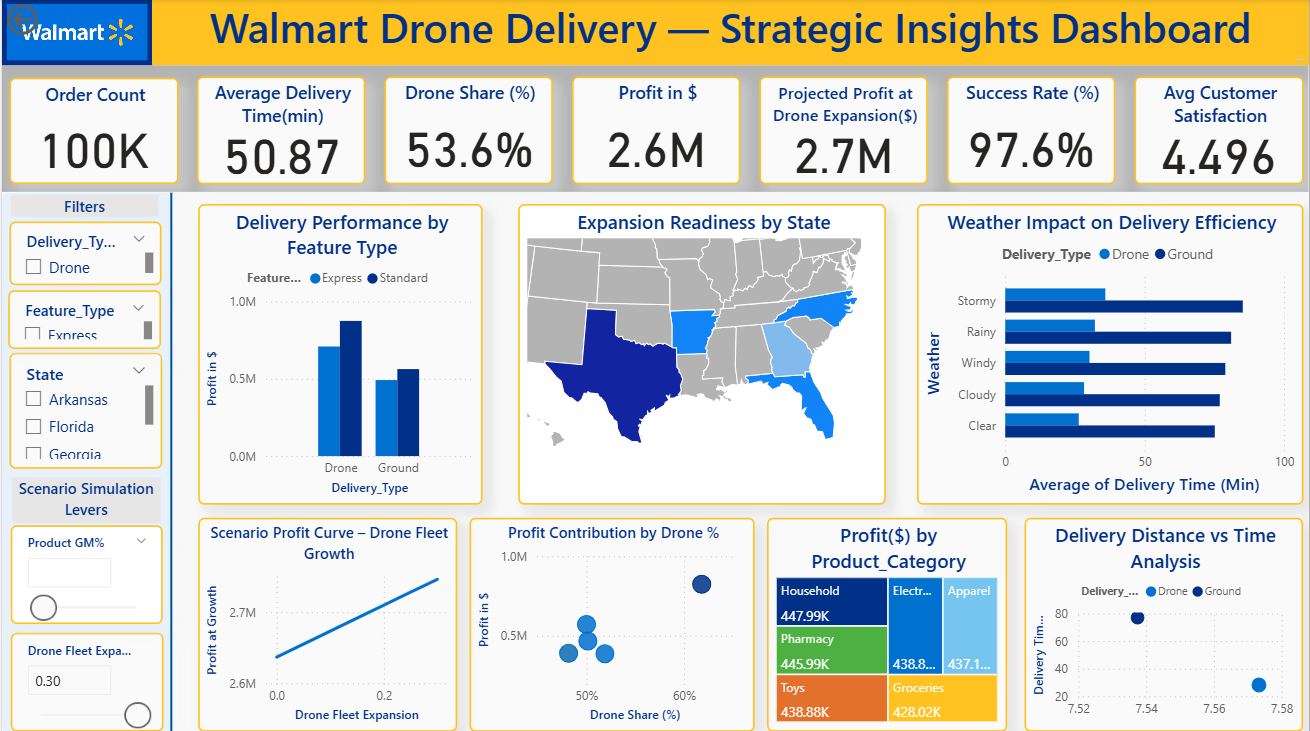

This screenshot's page, from the dashboard's own definition file:
{"tool":"powerbi","page":{"name":"Page 1","canvas":[1280,720],"ordinal":0},"visuals":[{"type":"shape","box":[0,189.5,165.2,529.5],"z":0},{"type":"textbox","box":[0,65.1,1279,124],"z":1000},{"type":"textbox","box":[0,0,147,65.1],"z":2000},{"type":"textbox","title":"Walmart Drone Delivery — Strategic Insights Dashboard","box":[147,0,1133.2,65.1],"z":3000},{"type":"card","title":"Profit in $","fields":{"Values":["Product GM%.Profit_USD (Corrected)"]},"box":[558.2,75.5,165,105.3],"z":4000},{"type":"card","title":"Average Delivery Time(min)","fields":{"Values":["Avg(walmart_database walmart_data.Delivery Time (Min))"]},"box":[191.1,75.5,165,105.3],"z":5000},{"type":"card","title":"Success Rate (%)","fields":{"Values":["walmart_database walmart_v4.Success Rate %"]},"box":[925.3,75.5,165,105.3],"z":6000},{"type":"card","title":"Avg Customer Satisfaction","fields":{"Values":["Avg(walmart_database walmart_data.Customer Satisfaction)"]},"box":[1108.9,75.9,165.2,105.3],"z":7000},{"type":"card","title":"Drone Share (%)","fields":{"Values":["walmart_database walmart_data.Drone Share (%)"]},"box":[374.7,75.5,165,105.3],"z":8000},{"type":"clusteredColumnChart","title":"Delivery Performance by Feature Type","fields":{"Category":["walmart_database walmart_data.Delivery_Type"],"Series":["walmart_database walmart_data.Feature_Type"],"Y":["Product GM%.Profit_USD (Corrected)"]},"box":[192.6,200.4,278.4,294],"z":9000},{"type":"clusteredBarChart","title":"Weather Impact on Delivery Efficiency","fields":{"Category":["walmart_database walmart_data.Weather"],"Y":["Avg(walmart_database walmart_data.Delivery Time (Min))"],"Series":["walmart_database walmart_data.Delivery_Type"]},"box":[896.4,200.4,378.6,294],"z":10000},{"type":"scatterChart","title":"Delivery Distance vs Time Analysis","fields":{"X":["Avg(walmart_database walmart_data.Distance_km)"],"Y":["Avg(walmart_database walmart_data.Delivery Time (Min))"],"Size":["Sum(walmart_database walmart_data.Profit_USD)"],"Series":["walmart_database walmart_data.Delivery_Type"]},"box":[1001.2,507.9,272.9,209.3],"z":11000},{"type":"shapeMap","title":"Expansion Readiness by State","fields":{"Category":["walmart_database walmart_data.State"],"Value":["walmart_database walmart_data.Expansion Readiness"]},"box":[505.5,200.4,360.4,294],"z":12000},{"type":"card","title":"Order Count","fields":{"Values":["walmart_database walmart_v4.Order Count"]},"box":[7.3,77.1,165.2,104],"z":13000},{"type":"treemap","title":"Profit($) by Product_Category","fields":{"Group":["walmart_database walmart_v4.Product_Category"],"Values":["Product GM%.Profit_USD (Corrected)"]},"box":[749.1,507.9,235,209.3],"z":14000},{"type":"slicer","fields":{"Values":["walmart_database walmart_v4.State"]},"box":[6.8,346.7,149.5,113.3],"z":15000},{"type":"slicer","fields":{"Values":["walmart_database walmart_v4.Delivery_Type"]},"box":[7,217.4,149,62.8],"z":16000},{"type":"slicer","fields":{"Values":["walmart_database walmart_v4.Feature_Type"]},"box":[6.5,284.8,149.6,57.2],"z":17000},{"type":"slicer","fields":{"Values":["Drone Fleet Expansion.Drone Fleet Expansion"]},"box":[8.6,620.5,149.3,96.7],"z":18000},{"type":"scatterChart","title":"Profit Contribution by Drone %","fields":{"X":["walmart_database walmart_v4.Drone Share (%)"],"Size":["walmart_database walmart_v4.Success Rate %"],"Category":["walmart_database walmart_v4.State"],"Y":["Product GM%.Profit_USD (Corrected)"]},"box":[457.8,507.9,279.1,209.3],"z":19000},{"type":"slicer","fields":{"Values":["Product GM%.Product GM%"]},"box":[8.6,515.3,149,97],"z":20000},{"type":"shape","box":[156.1,190,18.2,529.5],"z":21000},{"type":"textbox","title":"Scenario Simulation Levers","box":[9.3,468.6,145.3,44.2],"z":22000},{"type":"image","box":[0,0,147,65.1],"z":23000},{"type":"actionButton","box":[0,0,100,40],"z":24000},{"type":"textbox","title":"Filters","box":[9.1,192.6,144.4,20.8],"z":25000},{"type":"lineChart","title":"Scenario Profit Curve – Drone Fleet Growth","fields":{"Y":["Drone Fleet Expansion.Profit at Growth"],"Category":["Drone Fleet Expansion.Drone Fleet Expansion"]},"box":[192.2,507.9,253.4,209.3],"z":25001},{"type":"card","title":"Projected Profit at Drone Expansion($)","fields":{"Values":["Drone Fleet Expansion.Profit at Growth"]},"box":[741.8,75.5,165,105.3],"z":25002}]}

Visuals, with their boxes in screenshot pixels (x1, y1, x2, y2), scaled from the page's 1280x720 canvas onto the 1310x731 screenshot:
shape: bbox=(0, 192, 169, 730)
textbox: bbox=(0, 66, 1309, 192)
textbox: bbox=(0, 0, 150, 66)
"Walmart Drone Delivery — Strategic Insights Dashboard" textbox: bbox=(150, 0, 1309, 66)
"Profit in $" card: bbox=(571, 77, 740, 184)
"Average Delivery Time(min)" card: bbox=(196, 77, 364, 184)
"Success Rate (%)" card: bbox=(947, 77, 1116, 184)
"Avg Customer Satisfaction" card: bbox=(1135, 77, 1304, 184)
"Drone Share (%)" card: bbox=(383, 77, 552, 184)
"Delivery Performance by Feature Type" clusteredColumnChart: bbox=(197, 203, 482, 502)
"Weather Impact on Delivery Efficiency" clusteredBarChart: bbox=(917, 203, 1305, 502)
"Delivery Distance vs Time Analysis" scatterChart: bbox=(1025, 516, 1304, 728)
"Expansion Readiness by State" shapeMap: bbox=(517, 203, 886, 502)
"Order Count" card: bbox=(7, 78, 177, 184)
"Profit($) by Product_Category" treemap: bbox=(767, 516, 1007, 728)
slicer - walmart_database walmart_v4.State: bbox=(7, 352, 160, 467)
slicer - walmart_database walmart_v4.Delivery_Type: bbox=(7, 221, 160, 284)
slicer - walmart_database walmart_v4.Feature_Type: bbox=(7, 289, 160, 347)
slicer - Drone Fleet Expansion.Drone Fleet Expansion: bbox=(9, 630, 162, 728)
"Profit Contribution by Drone %" scatterChart: bbox=(469, 516, 754, 728)
slicer - Product GM%.Product GM%: bbox=(9, 523, 161, 622)
shape: bbox=(160, 193, 178, 730)
"Scenario Simulation Levers" textbox: bbox=(10, 476, 158, 521)
image: bbox=(0, 0, 150, 66)
actionButton: bbox=(0, 0, 102, 41)
"Filters" textbox: bbox=(9, 196, 157, 217)
"Scenario Profit Curve – Drone Fleet Growth" lineChart: bbox=(197, 516, 456, 728)
"Projected Profit at Drone Expansion($)" card: bbox=(759, 77, 928, 184)
